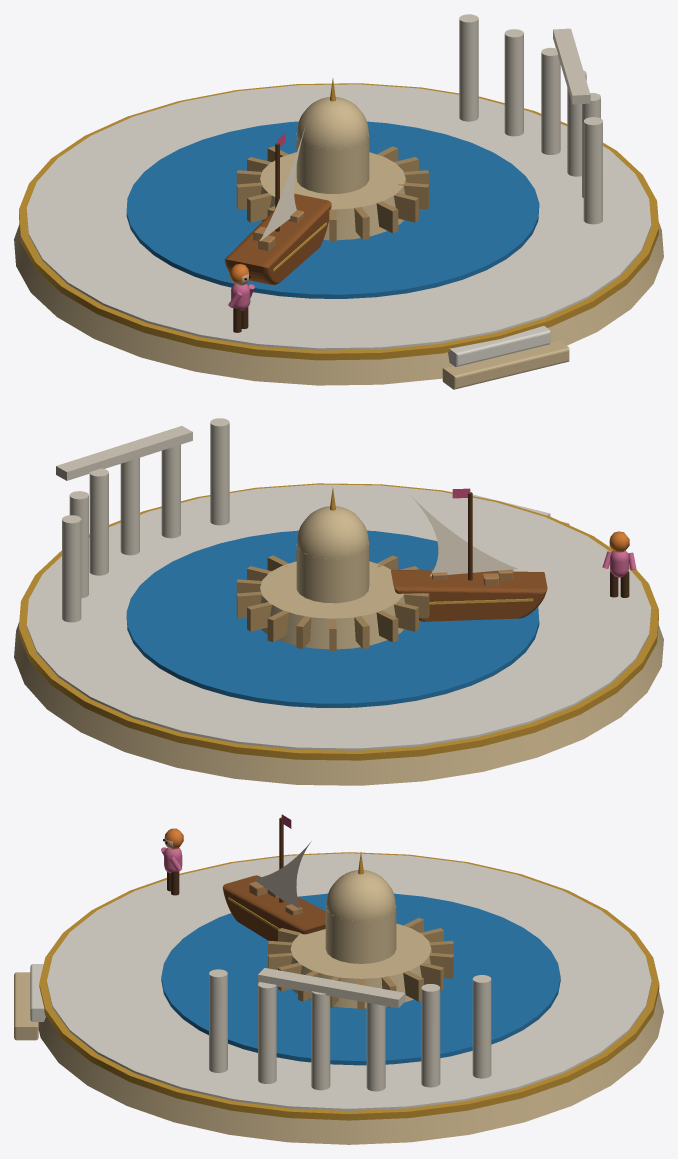
The model's file is carthage.glb.
3 renders of one model, top to bottom at view 1: azimuth 30°, elevation 25°; view 2: azimuth 150°, elevation 25°; view 3: azimuth 270°, elevation 25°, orthographic. The views are drawn at different scales.
Visible parts, largest first — view 1: part_000, part_002, part_003; view 2: part_000, part_002, part_003; view 3: part_000, part_002, part_003.
Boxes of the visible parts, x1=… form: part_000: x1=14, y1=14, x2=663, y2=389; part_002: x1=224, y1=143, x2=331, y2=284; part_003: x1=260, y1=126, x2=305, y2=241; part_000: x1=14, y1=418, x2=663, y2=785; part_002: x1=391, y1=492, x2=547, y2=621; part_003: x1=410, y1=495, x2=517, y2=576; part_000: x1=14, y1=828, x2=663, y2=1144; part_002: x1=222, y1=817, x2=325, y2=941; part_003: x1=253, y1=841, x2=311, y2=912.
Bounding box in the file's own units: 10.72 × 3.05 × 11.07.
